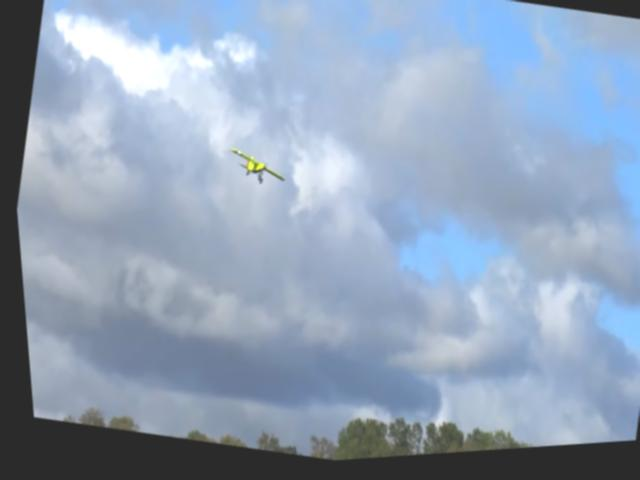plane: (218, 148, 287, 194)
